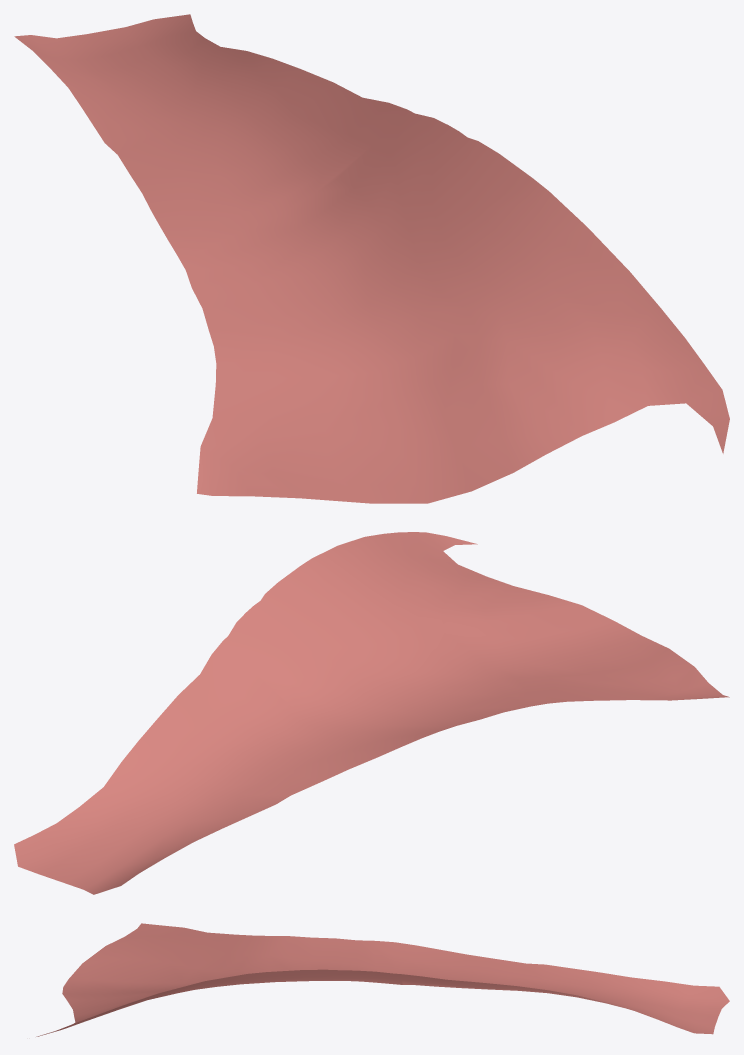
3 views of the same model, one above another, from view 1: azimuth 30°, elevation 25°; view 2: azimuth 150°, elevation 25°; view 3: azimuth 270°, elevation 25° (orthographic). The views are drawn at different scales.
Parts seen in each view (by area): view 1: ZA_7057856192119a2d; view 2: ZA_7057856192119a2d; view 3: ZA_7057856192119a2d.
Part boxes in pixels (<box>): ZA_7057856192119a2d: <box>14,14,729,503</box>; ZA_7057856192119a2d: <box>14,532,729,894</box>; ZA_7057856192119a2d: <box>36,923,729,1036</box>.
Size of the model in its own units: 0.0637 by 0.0193 by 0.1428.
